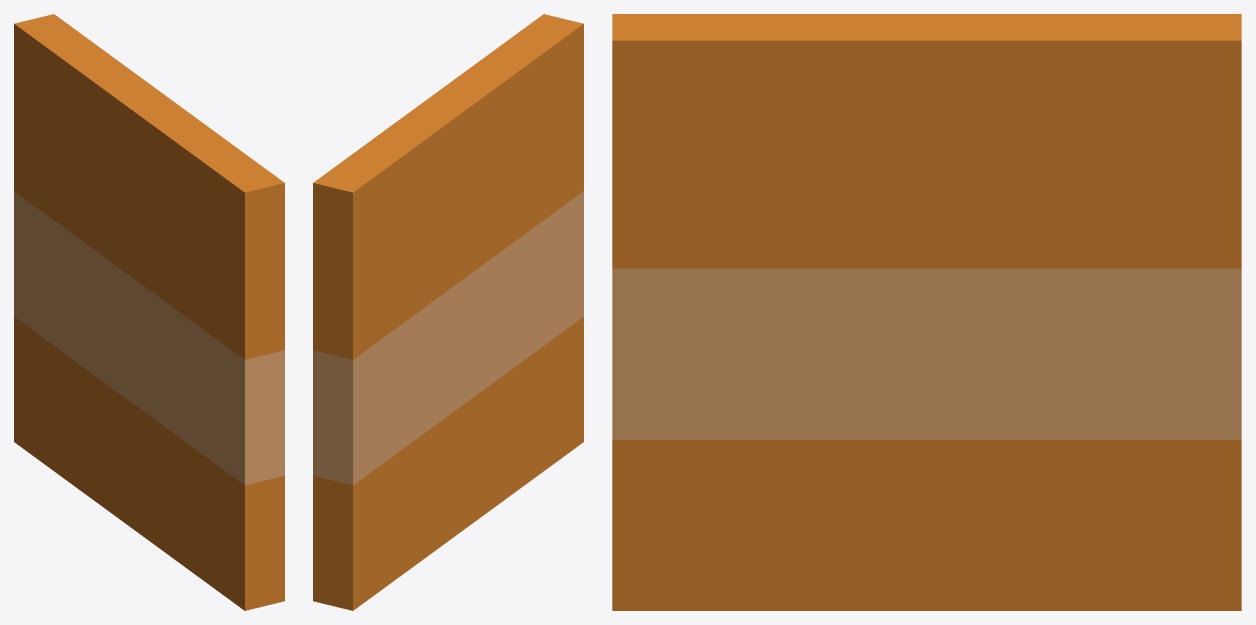
Rendered from dirt_wall_B_10.obj.
3 renders of one model, left to right at view 1: azimuth 30°, elevation 25°; view 2: azimuth 150°, elevation 25°; view 3: azimuth 270°, elevation 25°, orthographic. The views are drawn at different scales.
Bounding box in the file's own units: 0.1 × 1 × 1.
Materials: 1 (1 with a texture image).
